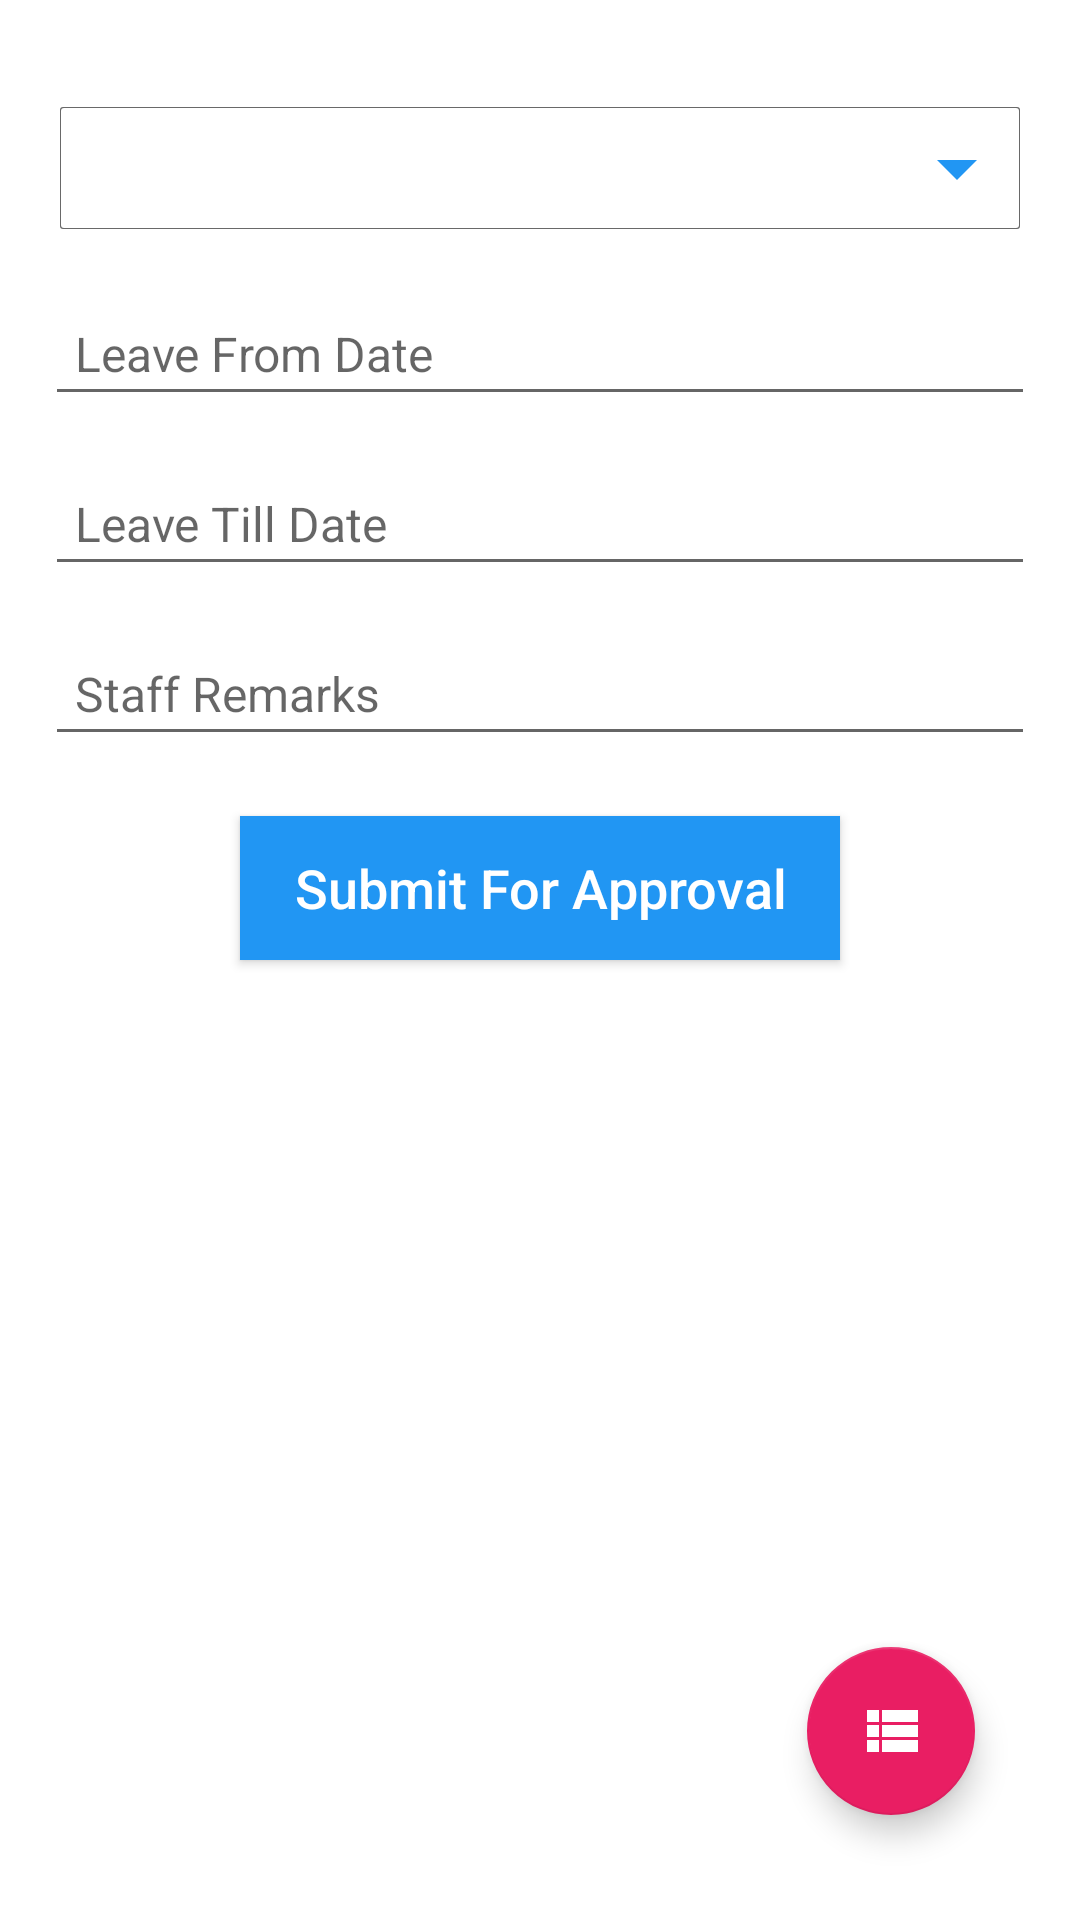

Where to tap for icons on this 1080 × 1920 app screen, as [x,y]:
arrow drop down: [957,170]
view list: [891,1731]
